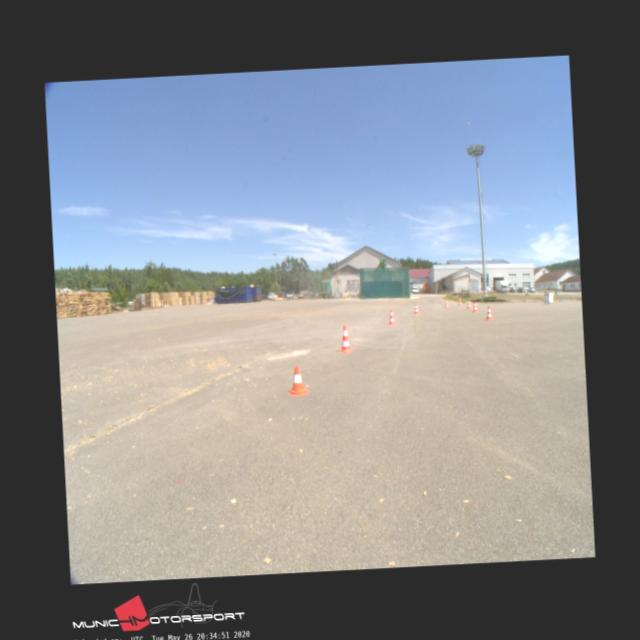large_orange_cone: (338, 325, 352, 352), (388, 308, 396, 324), (484, 305, 492, 320), (413, 302, 420, 314), (472, 301, 478, 312), (466, 299, 472, 309), (444, 299, 448, 308), (458, 296, 462, 304)
orange_cone: (287, 366, 306, 395)
